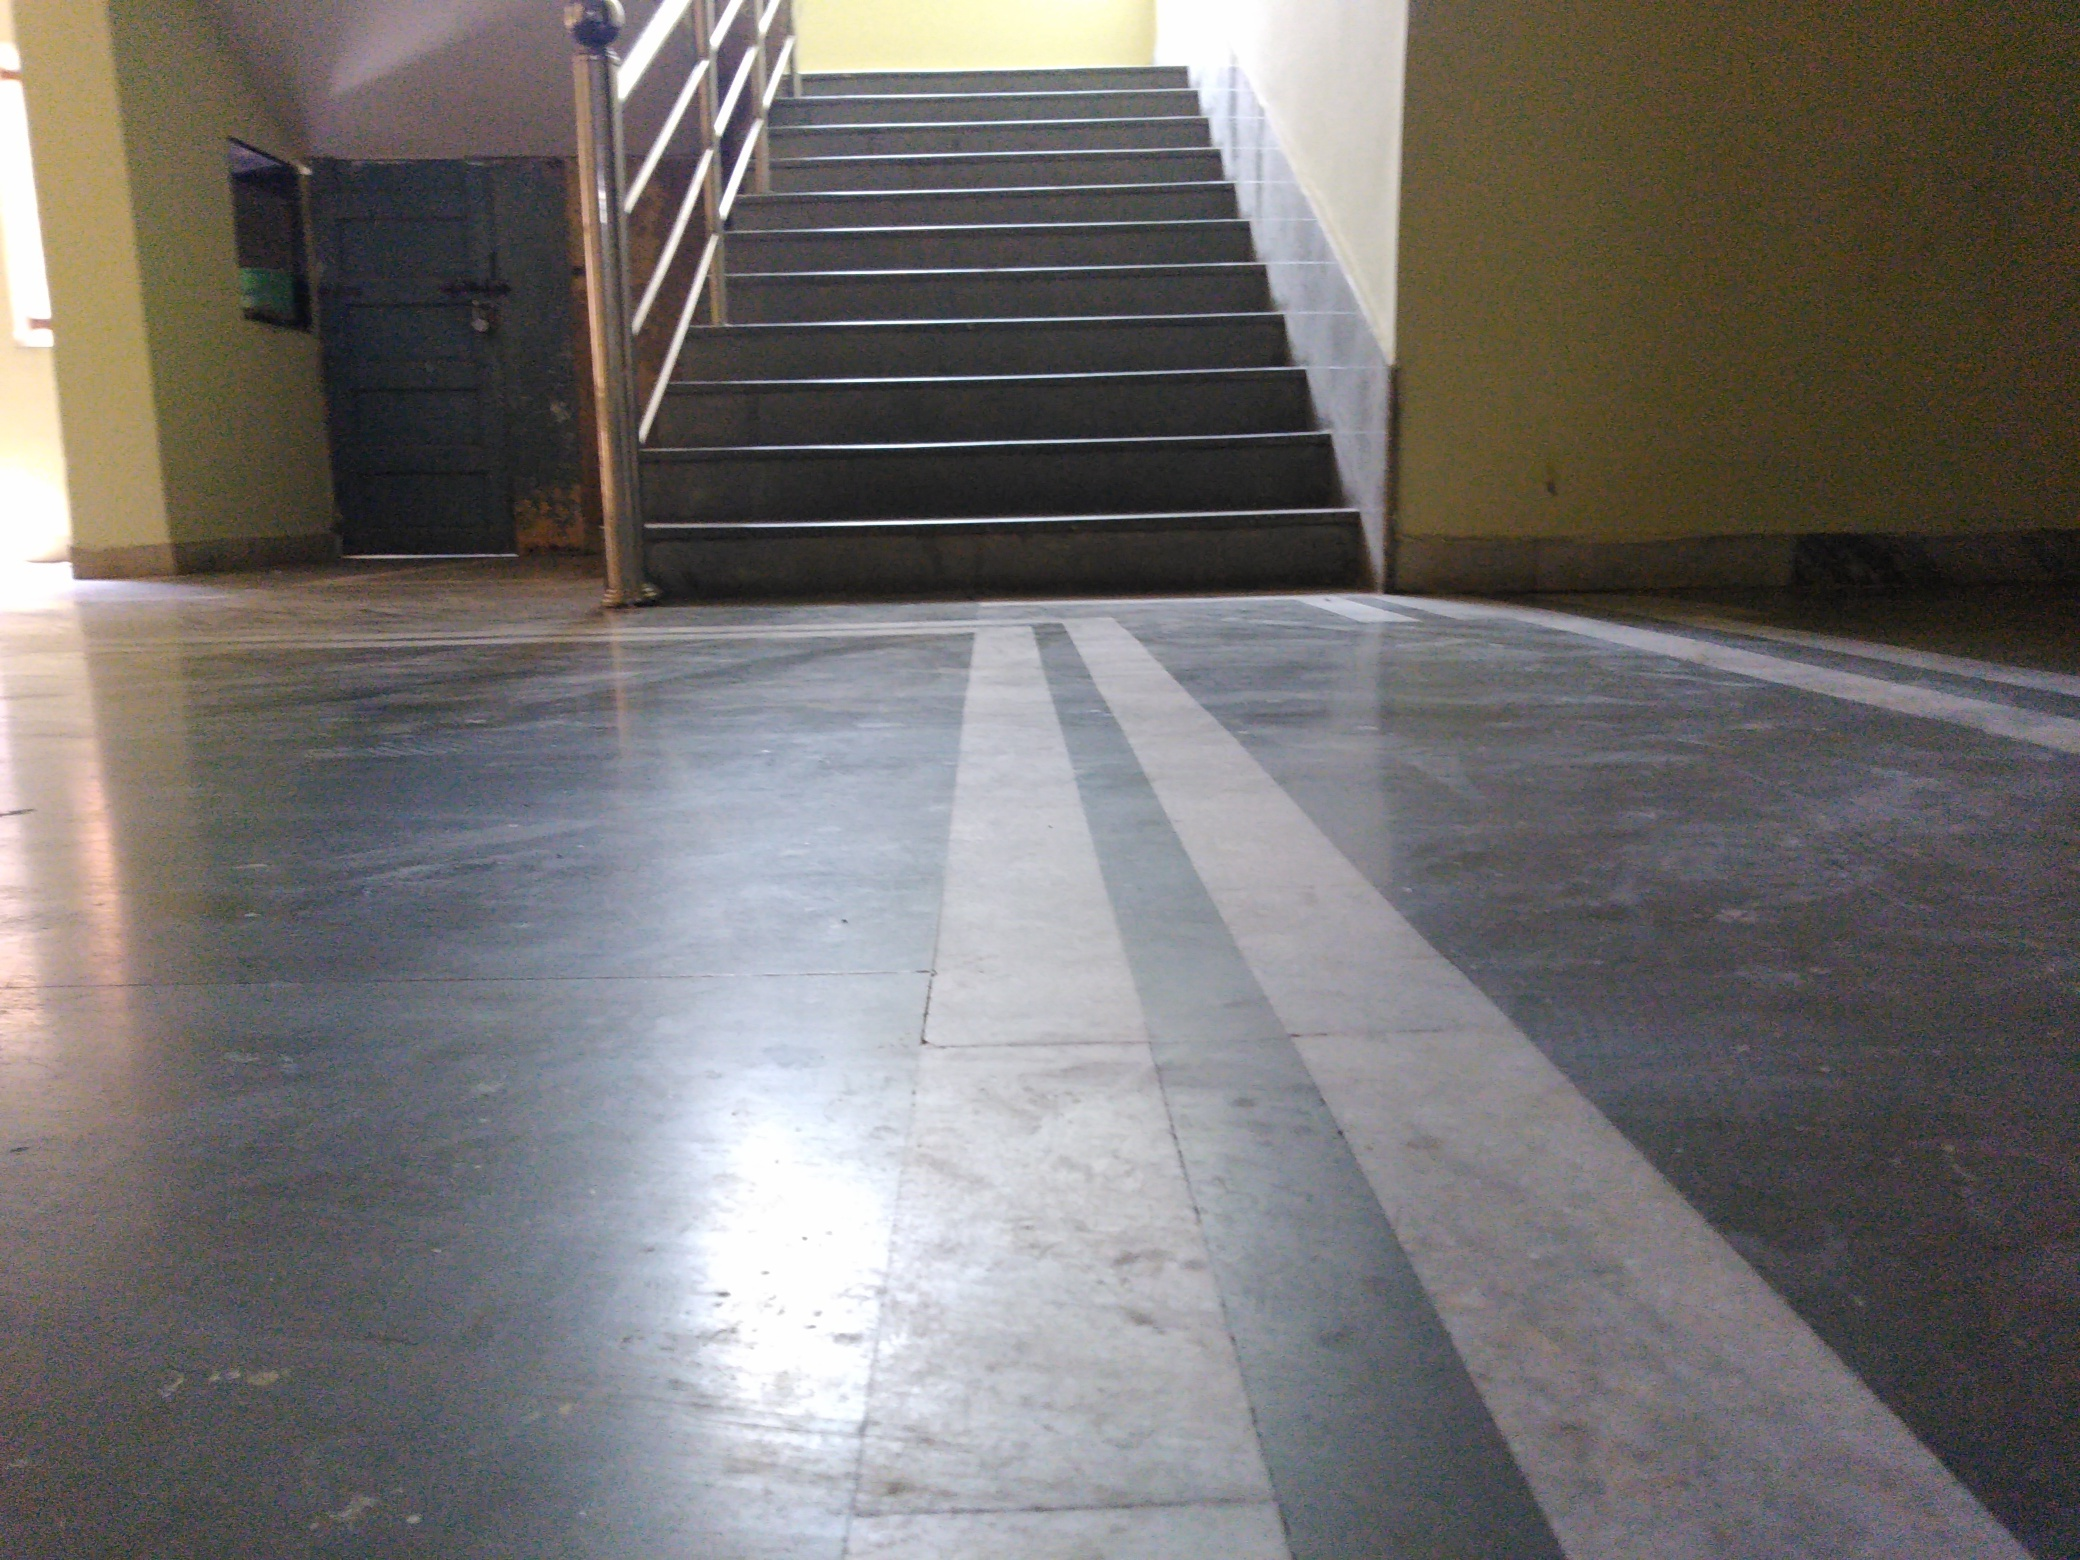stairs_up: (686, 70, 1351, 592)
